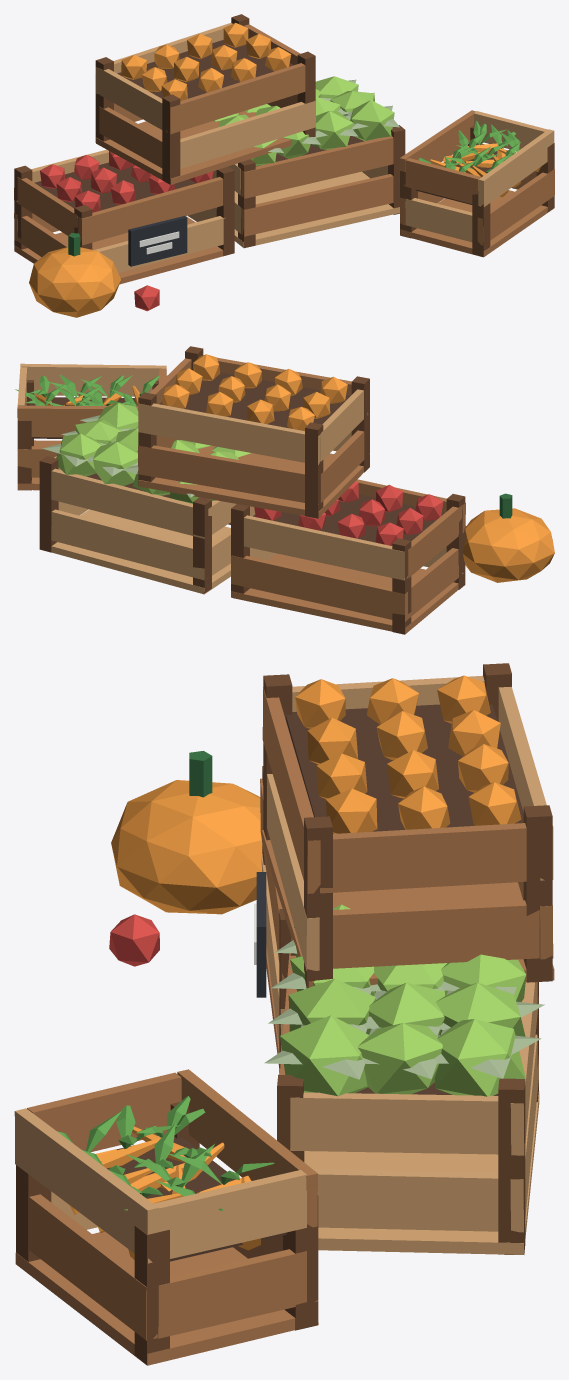
The model's file is produce_crates.glb.
The picture shows the model from 3 angles, top to bottom: view 1: azimuth 30°, elevation 25°; view 2: azimuth 150°, elevation 25°; view 3: azimuth 270°, elevation 25°; orthographic projection. The views are drawn at different scales.
Visible parts, largest first — view 1: Produce Crates; view 2: Produce Crates; view 3: Produce Crates.
Boxes of the visible parts, <box> form: Produce Crates: <box>14,14,554,317</box>; Produce Crates: <box>15,346,554,634</box>; Produce Crates: <box>14,663,554,1365</box>.
Bounding box in the file's own units: 1.8 × 0.6104 × 0.8286.
1 material, 1 textured.
